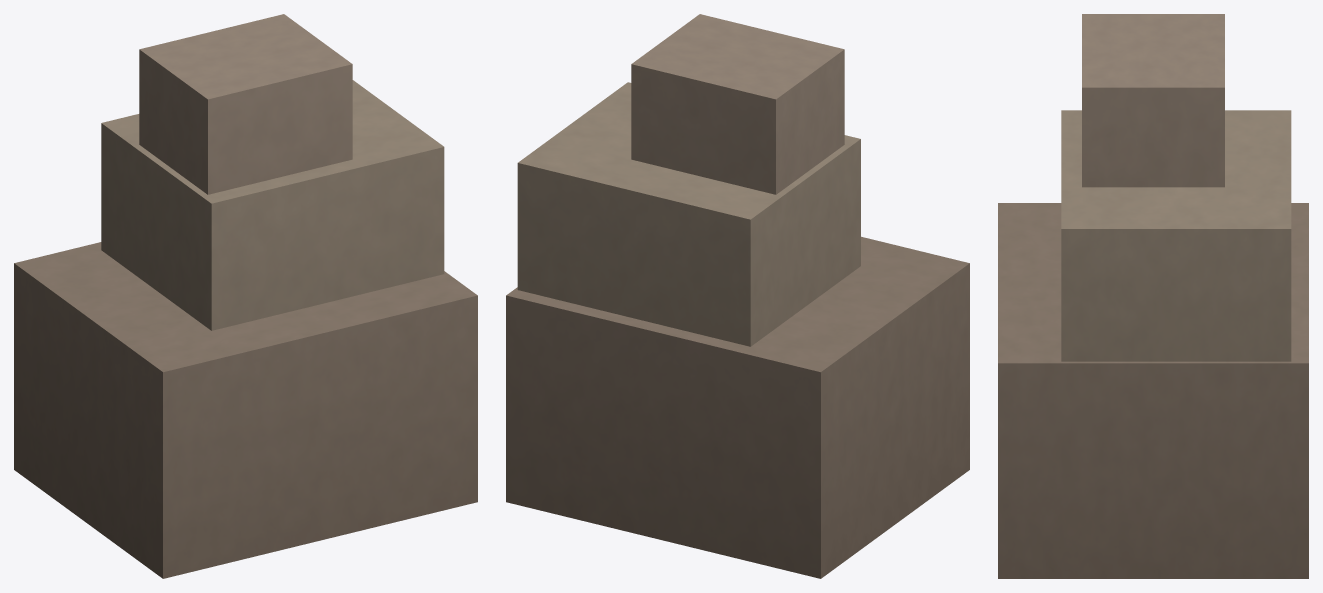
The model's file is mesa.glb.
3 views of the same model, side by side, from view 1: azimuth 30°, elevation 25°; view 2: azimuth 150°, elevation 25°; view 3: azimuth 270°, elevation 25° (orthographic). The views are drawn at different scales.
Parts seen in each view (by area): view 1: mesa; view 2: mesa; view 3: mesa.
Boxes of the visible parts, box(x1,y1,x2,y2) form: mesa: box(14, 14, 477, 578); mesa: box(506, 14, 969, 578); mesa: box(998, 14, 1308, 578).
Size of the model in its own units: 2.9 by 3.78 by 2.38.
1 material, 1 textured.
